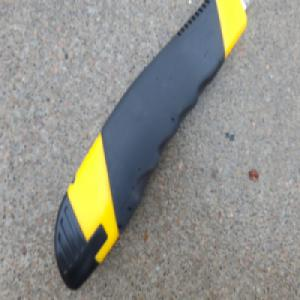Cutter: (53, 0, 253, 290)
